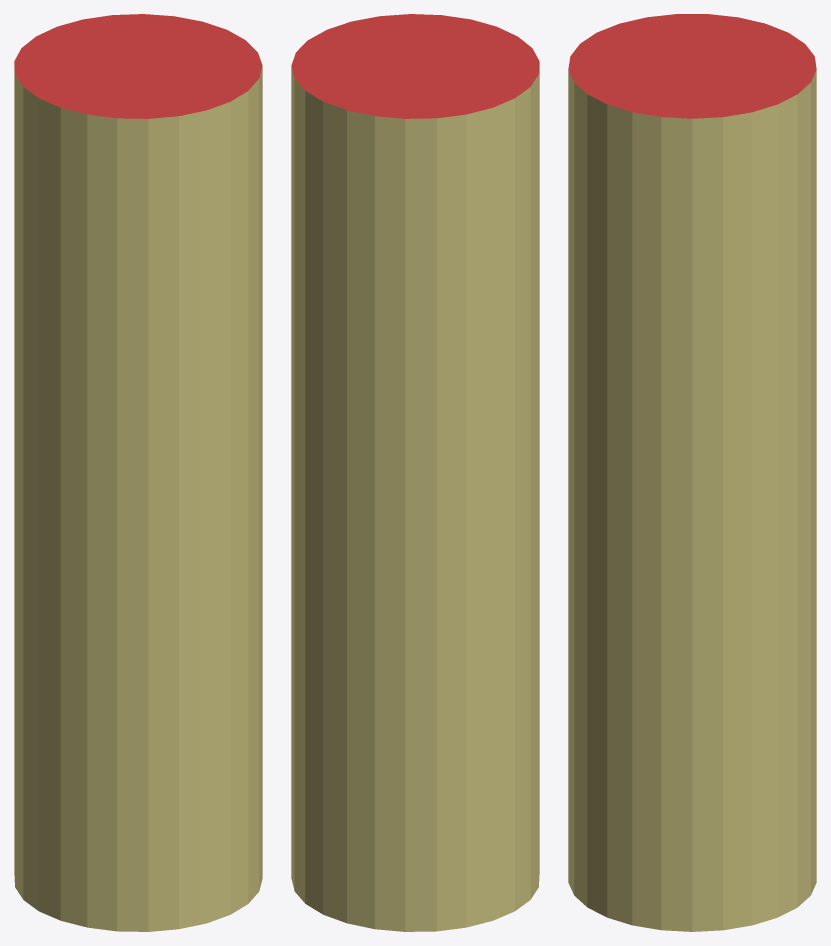
3 views of the same model, side by side, from view 1: azimuth 30°, elevation 25°; view 2: azimuth 150°, elevation 25°; view 3: azimuth 270°, elevation 25° (orthographic).
Bounding box in the file's own units: 2.83 × 2.83 × 10.23.
